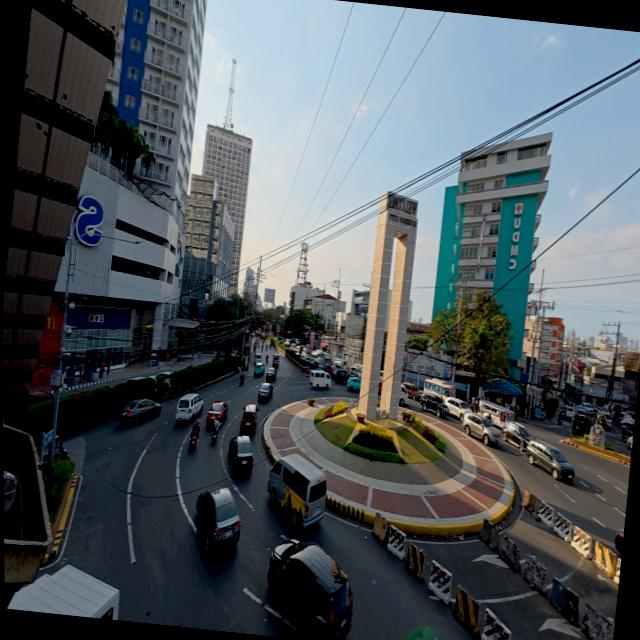Jeepneys: (478, 399, 513, 428)
bus: (423, 378, 455, 401)
car: (267, 540, 352, 639), (196, 487, 240, 552), (525, 440, 574, 481), (462, 413, 500, 445), (119, 399, 160, 425), (227, 435, 252, 473), (501, 421, 531, 451), (420, 393, 448, 418), (444, 397, 471, 421), (205, 402, 227, 425), (570, 412, 592, 434), (150, 371, 171, 388), (403, 382, 421, 401), (27, 391, 53, 404), (257, 383, 272, 401), (597, 411, 611, 429), (614, 529, 623, 554), (333, 368, 348, 383), (346, 377, 360, 391), (265, 367, 276, 382), (123, 376, 146, 383), (324, 364, 334, 380), (253, 362, 264, 375), (564, 405, 573, 420), (349, 366, 360, 377), (309, 360, 321, 369), (581, 402, 592, 411), (625, 436, 632, 449), (333, 359, 343, 368), (377, 382, 381, 395), (284, 339, 290, 347)
motorcycle: (53, 437, 68, 461), (189, 432, 197, 447), (210, 430, 216, 443), (239, 374, 243, 385), (252, 344, 256, 352), (265, 355, 268, 364), (253, 349, 256, 356), (261, 344, 263, 351)
vans: (7, 566, 121, 619), (267, 454, 326, 529), (175, 394, 202, 420), (239, 404, 258, 435), (398, 384, 407, 405), (272, 354, 279, 368), (254, 353, 261, 363)
